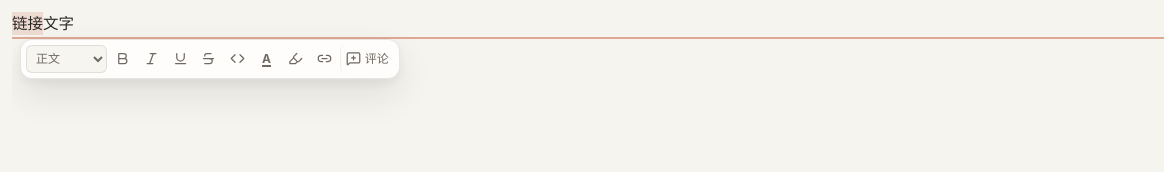
Test: BubbleToolbar › links: Escape 关闭面板
The image size is (1164, 172).
Expected: the element named "选区格式" is shown, x1=26 y1=45 x2=394 y2=73
Click the button named "编辑链接" at point(324, 59), box x1=311 y1=45 x2=337 y2=73
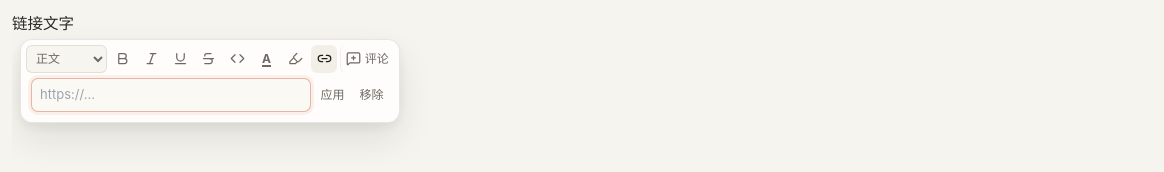
Press Escape
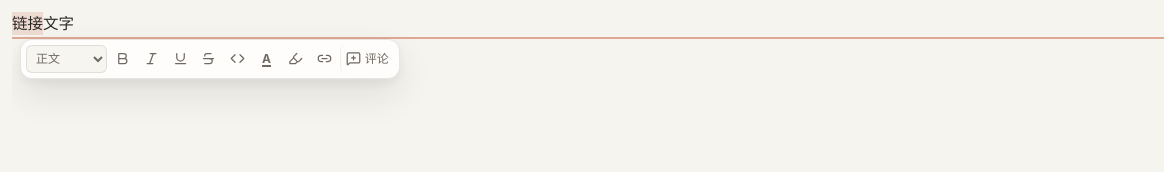
Result: the field labelled "链接地址" is gone
